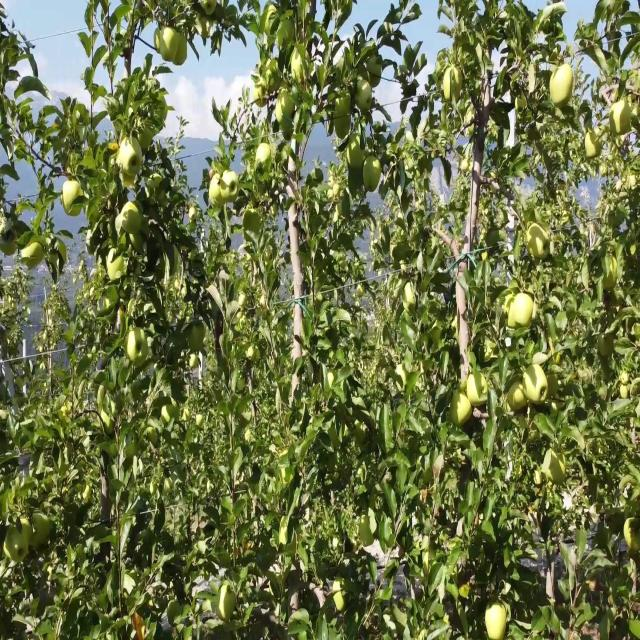apple: (552, 63, 574, 107), (120, 142, 144, 181), (512, 291, 535, 331), (524, 369, 548, 405), (128, 327, 148, 368), (64, 177, 83, 219), (8, 526, 30, 562), (452, 391, 473, 428), (508, 376, 528, 414), (12, 519, 32, 555), (488, 604, 508, 639), (444, 71, 464, 103), (468, 376, 488, 407), (364, 156, 381, 192), (32, 519, 52, 549), (124, 206, 144, 235), (356, 78, 373, 112), (528, 227, 545, 261), (160, 28, 176, 64), (348, 142, 367, 171), (548, 455, 567, 484), (108, 255, 127, 284), (624, 519, 640, 553), (616, 99, 631, 135), (244, 206, 262, 235), (604, 255, 618, 292), (188, 327, 207, 354), (224, 170, 239, 203), (212, 177, 226, 212), (256, 142, 272, 172), (28, 241, 44, 270), (280, 92, 296, 121), (588, 127, 603, 156), (176, 35, 188, 69), (264, 7, 278, 36), (368, 63, 383, 89), (140, 127, 153, 155), (120, 170, 138, 190), (336, 92, 352, 114), (336, 120, 352, 142), (132, 234, 147, 256), (104, 291, 119, 313), (600, 334, 613, 359), (20, 519, 32, 546), (504, 291, 515, 320), (32, 527, 44, 551), (280, 120, 293, 142), (116, 255, 127, 281), (4, 234, 16, 256), (156, 184, 168, 206), (516, 92, 528, 114), (508, 298, 516, 329), (148, 177, 161, 196), (136, 611, 145, 638), (200, 21, 212, 41), (612, 106, 620, 135), (552, 348, 563, 368), (632, 106, 640, 133), (204, 0, 217, 16), (508, 307, 517, 329), (156, 28, 163, 55), (188, 355, 200, 370), (60, 241, 68, 263), (108, 142, 120, 155), (16, 376, 26, 391), (120, 234, 128, 252), (600, 163, 608, 178), (68, 327, 73, 347), (212, 170, 218, 178)
